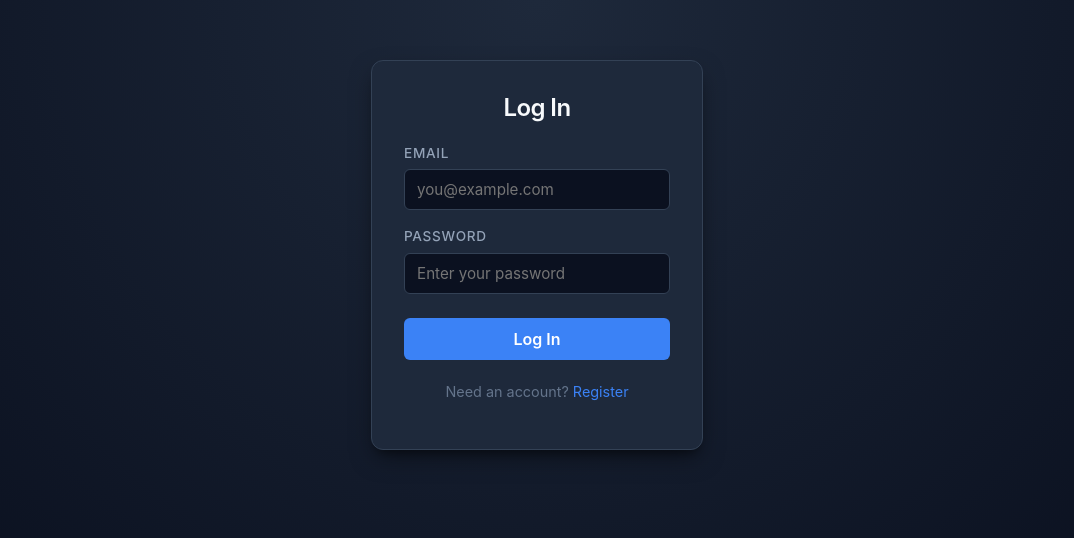
Test case: LoginPage › a failed login shows the error message returned by the API
# Fill in email and password and submit the form
Type "wrong@example.com" into the field labelled "Email" at (537, 190), box [404,169,670,210]
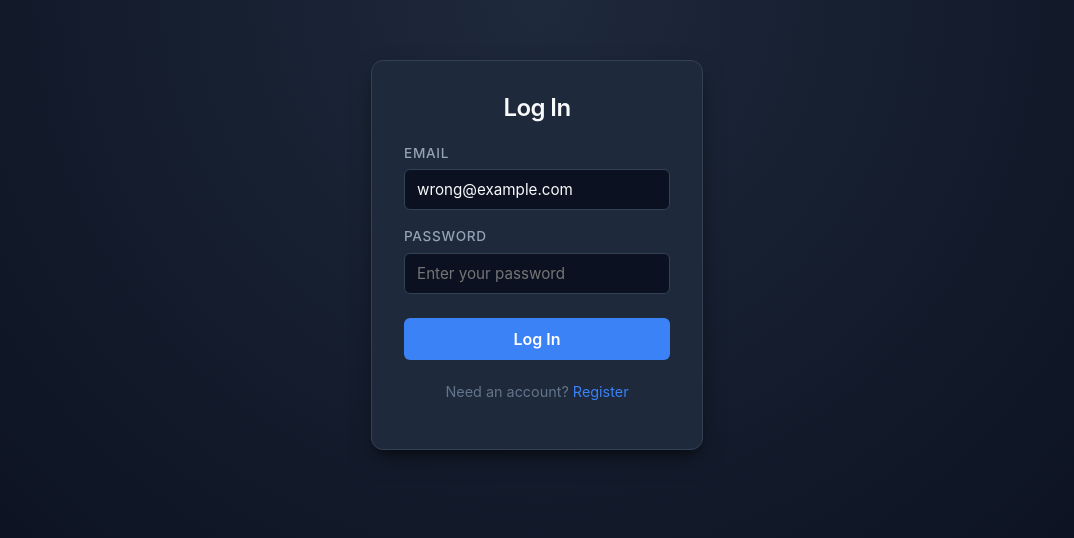
Type "wrongpass" into the password field labelled "Password" at (537, 273), box [404,253,670,294]
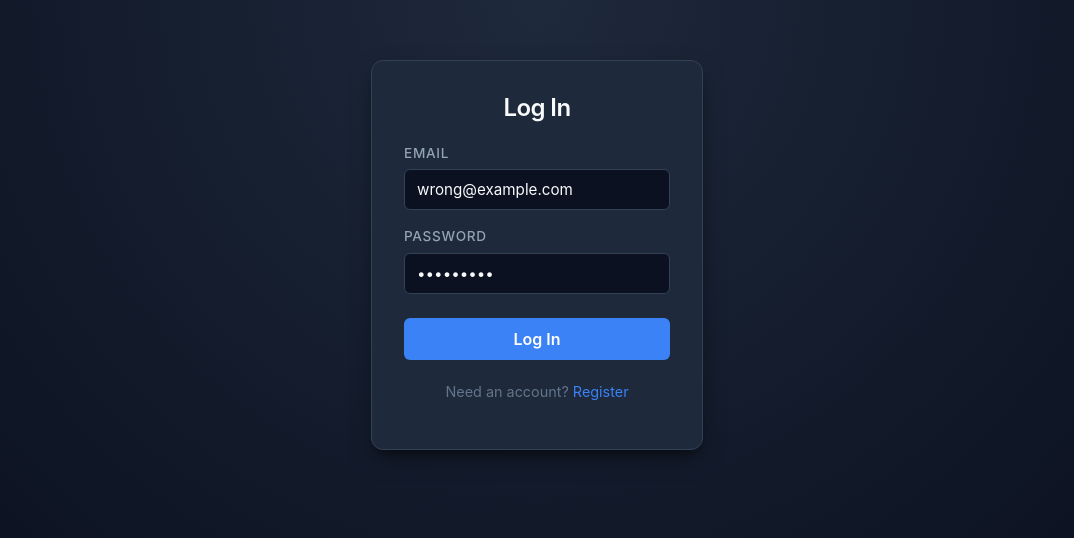
Click the button "Log In" at (537, 339), box [404,318,670,360]
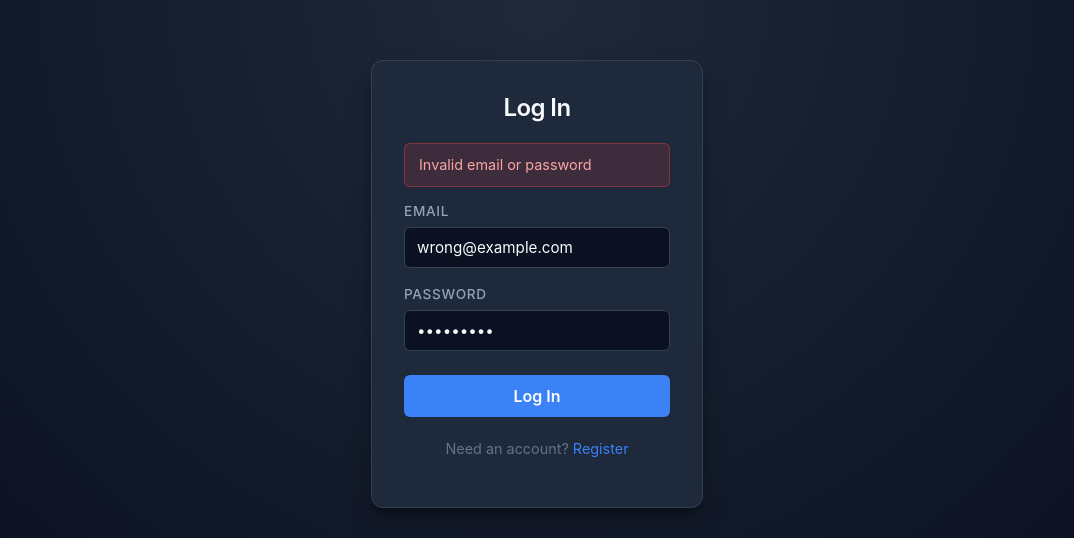
Expected: the text "Invalid email or password" is shown, [404,143,670,187]
